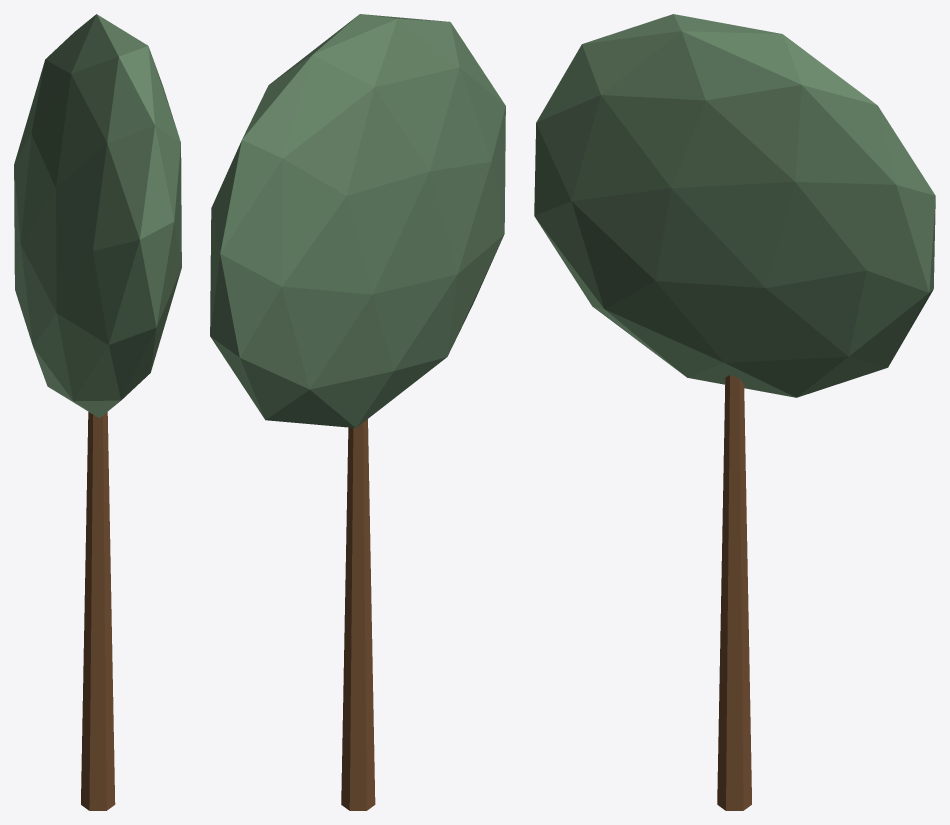
The model's file is oval_tree.fbx.
3 views of the same model, side by side, from view 1: azimuth 30°, elevation 25°; view 2: azimuth 150°, elevation 25°; view 3: azimuth 270°, elevation 25° (orthographic). The views are drawn at different scales.
Visible parts, largest first — view 1: oval tree, tree thin trunk; view 2: oval tree, tree thin trunk; view 3: oval tree, tree thin trunk.
Boxes of the visible parts, bbox=[...] form: oval tree: bbox=[14, 14, 181, 418]; tree thin trunk: bbox=[81, 412, 115, 810]; oval tree: bbox=[210, 14, 505, 427]; tree thin trunk: bbox=[341, 419, 375, 810]; oval tree: bbox=[534, 14, 935, 397]; tree thin trunk: bbox=[717, 375, 751, 810].
Size of the model in its own units: 0.8806 by 4.59 by 2.12.
2 materials, 2 textured.
